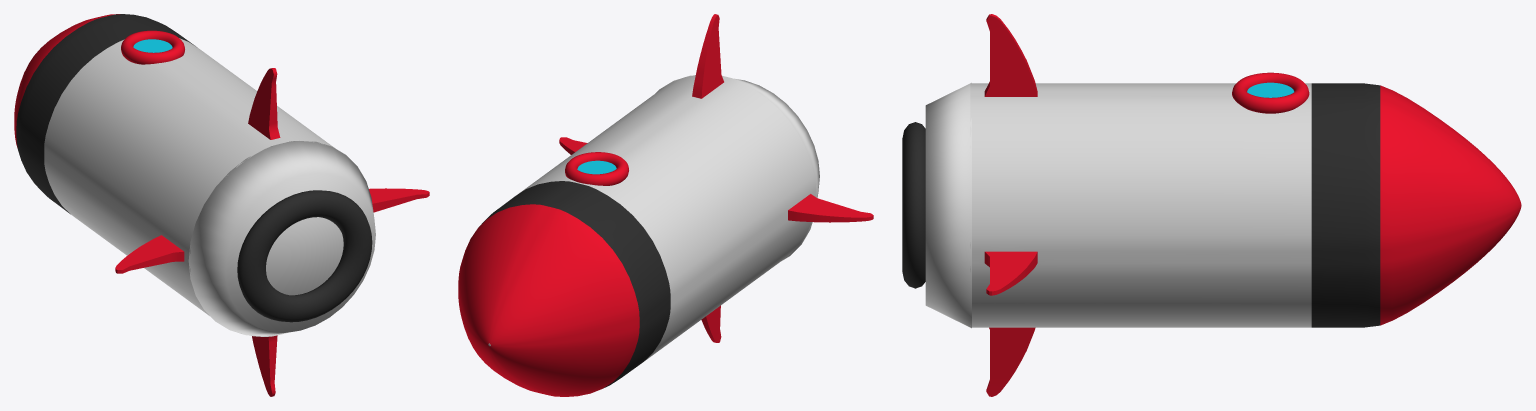
Rendered from rocket.fbx.
The picture shows the model from 3 angles, left to right: view 1: azimuth 30°, elevation 25°; view 2: azimuth 150°, elevation 25°; view 3: azimuth 270°, elevation 25°; orthographic projection. The views are drawn at different scales.
Parts seen in each view (by area): view 1: Cylinder, Cone, Torus, Torus.001, Plane; view 2: Cylinder, Torus.001, Cone, Plane; view 3: Cylinder, Cone, Torus, Torus.001, Plane.
Part boxes in pixels (bbox=[...]): Cylinder: bbox=[14, 14, 429, 396]; Cone: bbox=[188, 141, 375, 336]; Torus: bbox=[237, 190, 372, 322]; Torus.001: bbox=[121, 30, 184, 64]; Plane: bbox=[133, 39, 172, 52]; Cylinder: bbox=[458, 14, 873, 396]; Torus.001: bbox=[565, 152, 628, 185]; Cone: bbox=[655, 75, 819, 260]; Plane: bbox=[577, 160, 616, 174]; Cylinder: bbox=[970, 14, 1521, 396]; Cone: bbox=[925, 82, 971, 328]; Torus: bbox=[902, 122, 925, 288]; Torus.001: bbox=[1232, 72, 1309, 113]; Plane: bbox=[1247, 82, 1294, 97].
Size of the model in its own units: 339 by 339 by 498.
